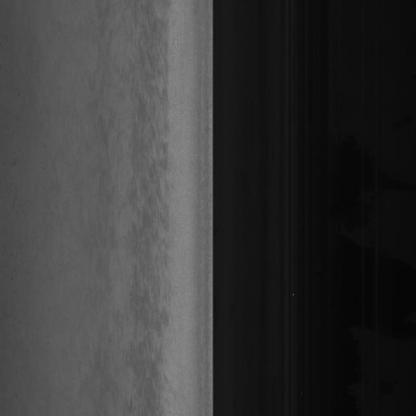silk_spot: (135, 74, 182, 360)
